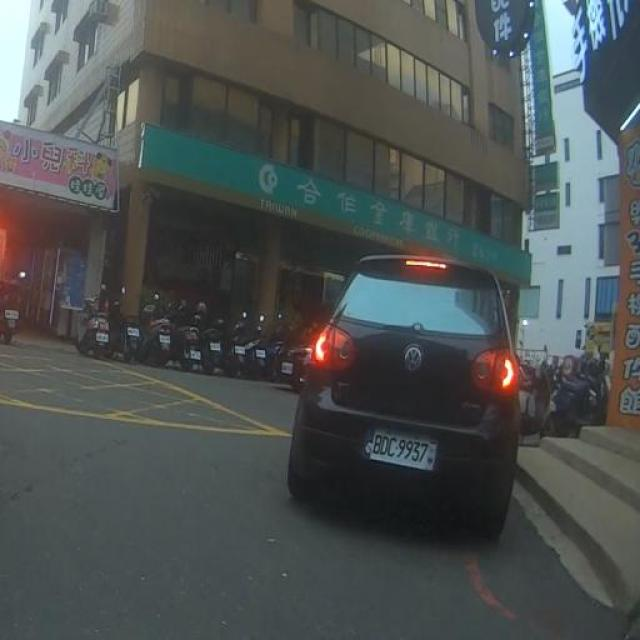Legalparking: (10, 265, 298, 374), (521, 339, 607, 449)
illegalparking: (288, 254, 520, 539)
